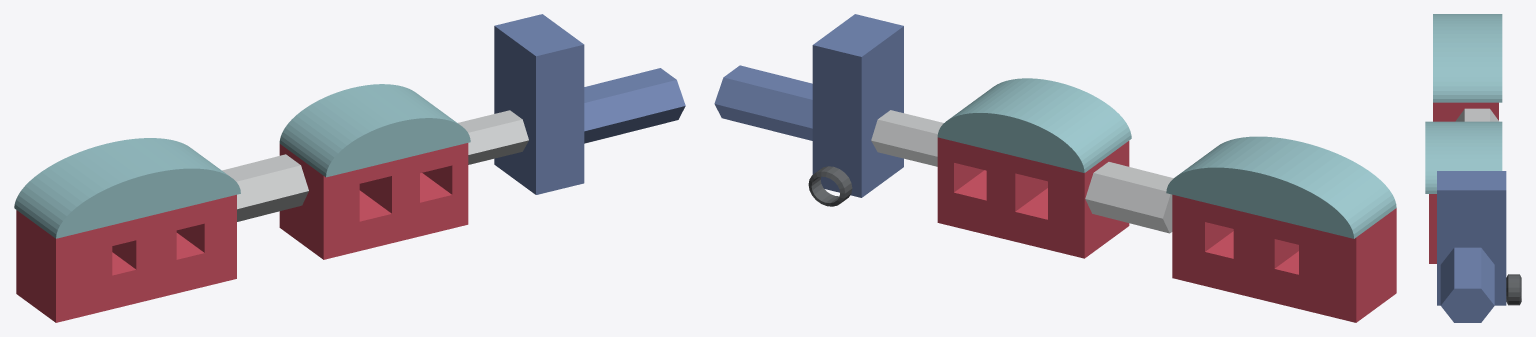
The model's file is Smooth Amur-Luulia.glb.
The picture shows the model from 3 angles, left to right: view 1: azimuth 30°, elevation 25°; view 2: azimuth 150°, elevation 25°; view 3: azimuth 270°, elevation 25°; orthographic projection. The views are drawn at different scales.
Parts seen in each view (by area): view 1: Mesh_Mesh_head_geo.001_lambert2SG.001; view 2: Mesh_Mesh_head_geo.001_lambert2SG.001; view 3: Mesh_Mesh_head_geo.001_lambert2SG.001.
Boxes of the visible parts, left/top/right/bottom form: Mesh_Mesh_head_geo.001_lambert2SG.001: left=14, top=14, right=685, bottom=322; Mesh_Mesh_head_geo.001_lambert2SG.001: left=714, top=14, right=1396, bottom=322; Mesh_Mesh_head_geo.001_lambert2SG.001: left=1425, top=14, right=1521, bottom=322.
Size of the model in its own units: 158 by 35 by 25.
